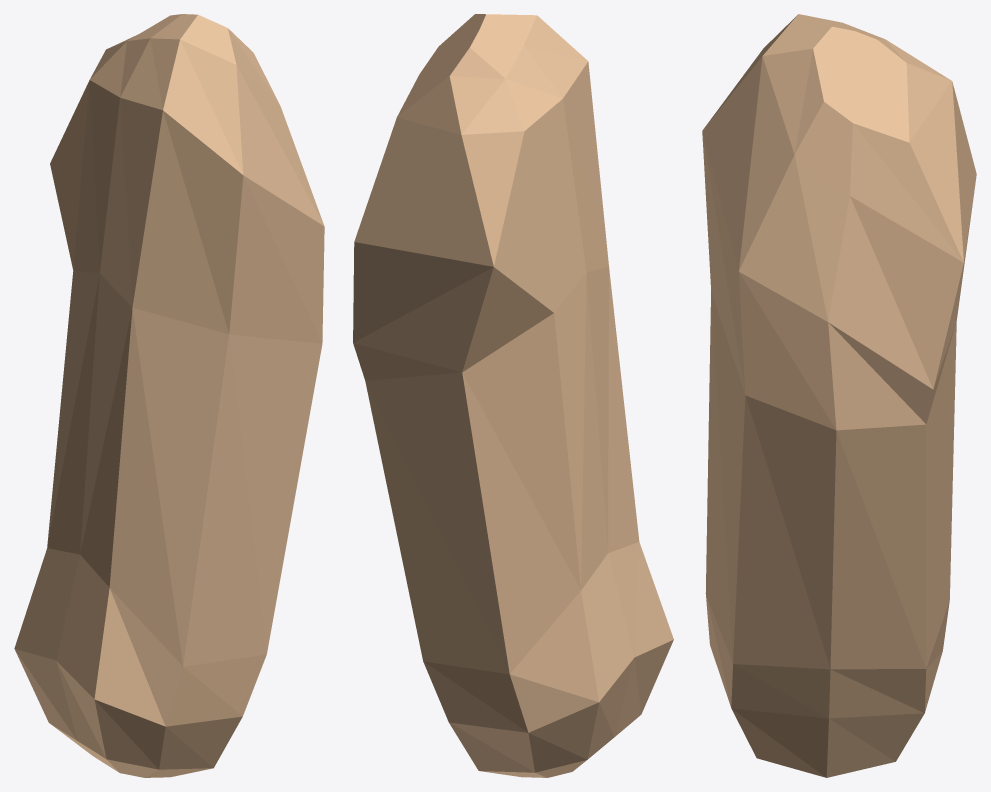
Rendered from RFing10_mesh.dae.
3 views of the same model, side by side, from view 1: azimuth 30°, elevation 25°; view 2: azimuth 150°, elevation 25°; view 3: azimuth 270°, elevation 25° (orthographic). The views are drawn at different scales.
Parts seen in each view (by area): view 1: RFing10; view 2: RFing10; view 3: RFing10.
Part boxes in pixels (x1,y1,x2,y2): RFing10: (14,14,324,777); RFing10: (353,14,673,777); RFing10: (702,14,976,777).
Bounding box in the file's own units: 0.0232 × 0.0643 × 0.021.
